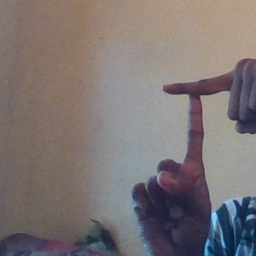T: (139, 61, 250, 184)
